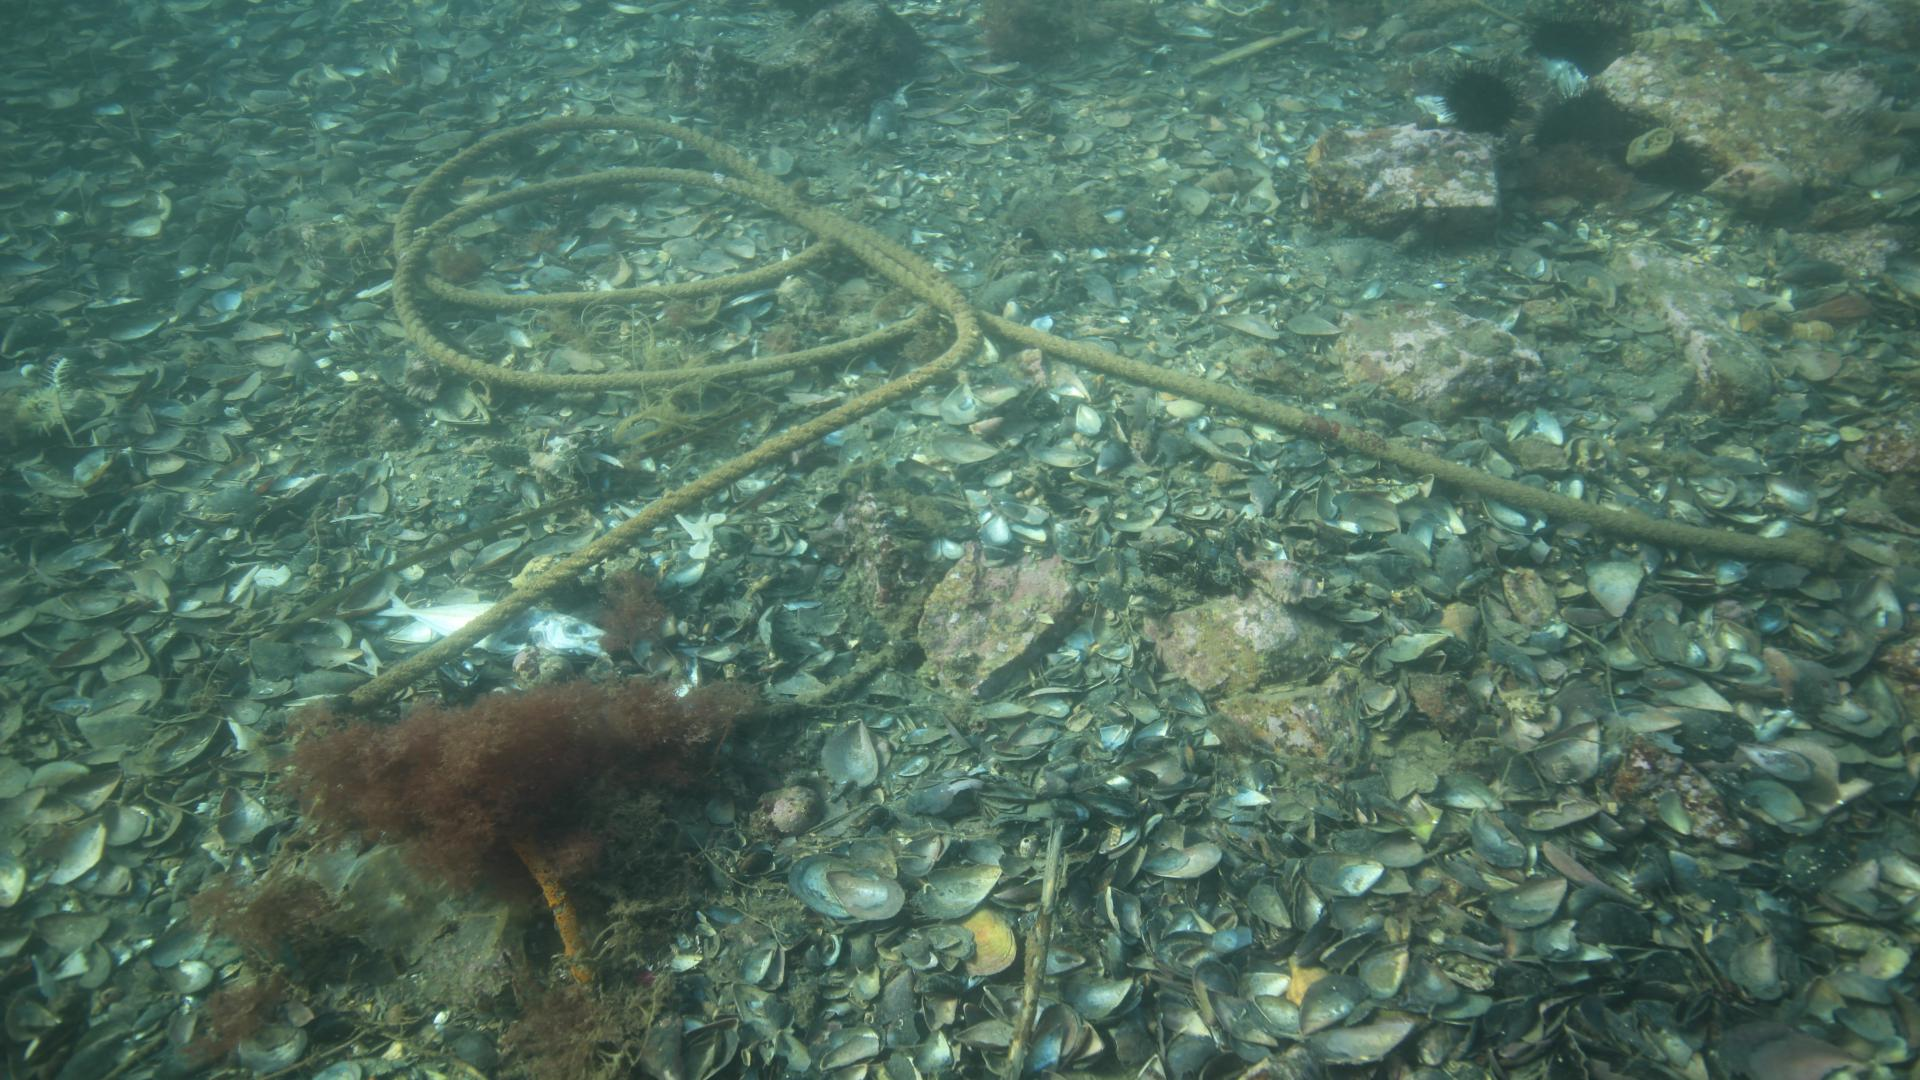bundle of ropes: (338, 108, 1817, 705)
